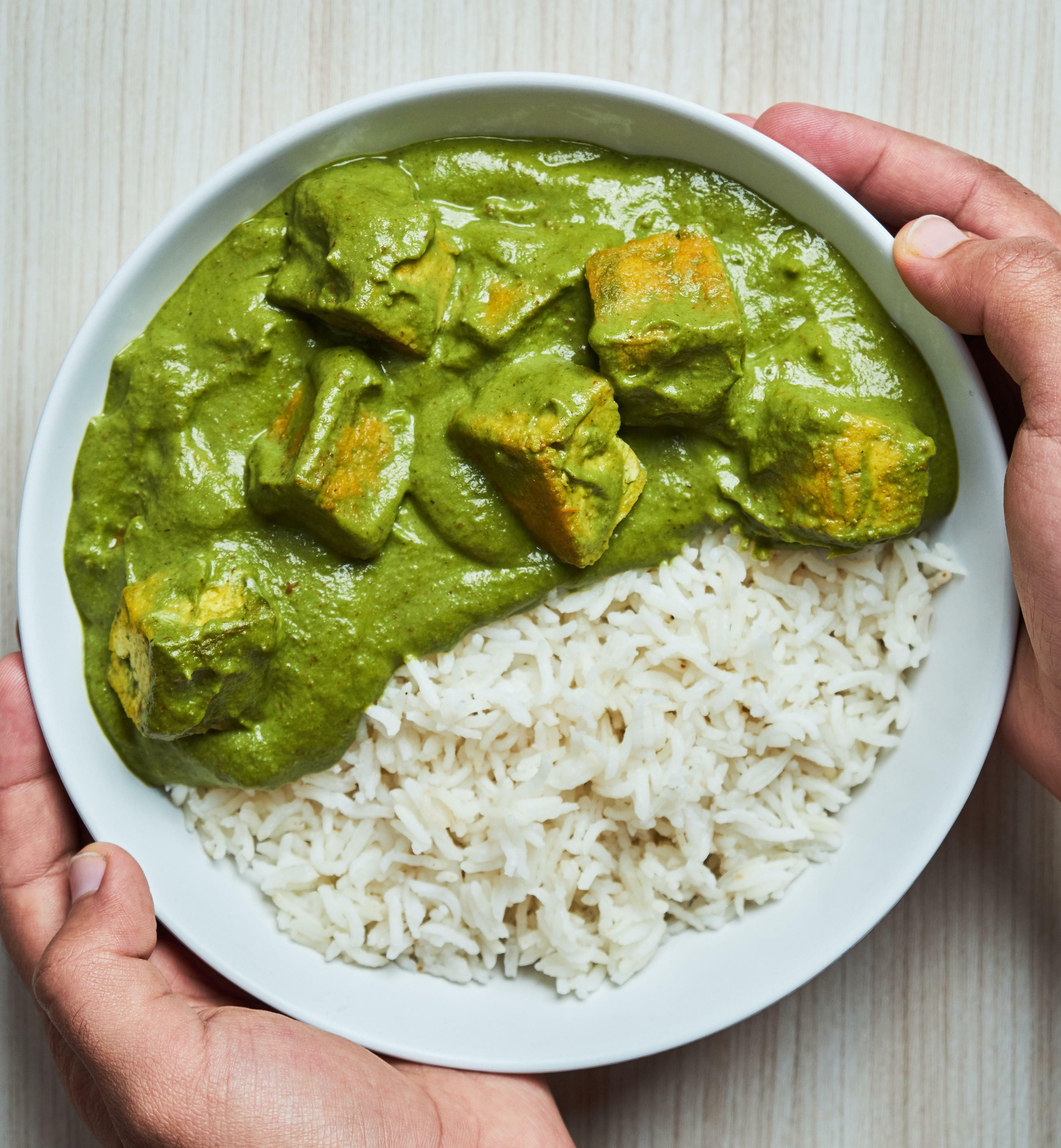PalakPaneer: (64, 125, 961, 778)
